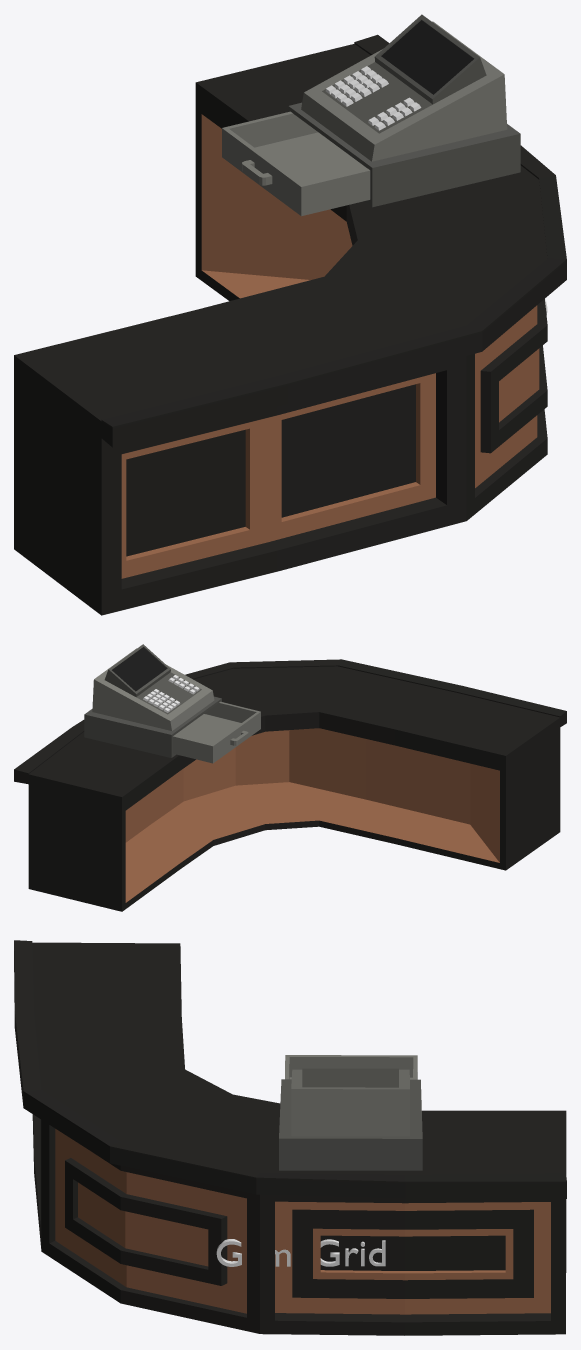
The model's file is Cashier.fbx.
3 renders of one model, top to bottom at view 1: azimuth 30°, elevation 25°; view 2: azimuth 150°, elevation 25°; view 3: azimuth 270°, elevation 25°, orthographic. The views are drawn at different scales.
Parts seen in each view (by area): view 1: Table, Cashier, CashierDrawer; view 2: Table, Cashier, CashierDrawer; view 3: Table, Cashier, CashierDrawer, Text.
Boxes of the visible parts, x1,y1,x2,y2 form: Table: (14, 34, 566, 615); Cashier: (288, 14, 520, 207); CashierDrawer: (222, 111, 370, 216); Table: (14, 659, 566, 911); Cashier: (84, 644, 221, 757); CashierDrawer: (173, 701, 260, 763); Table: (14, 940, 566, 1335); Cashier: (279, 1068, 422, 1170); CashierDrawer: (285, 1055, 417, 1079); Text: (216, 1239, 385, 1266).
Bounding box in the file's own units: 709 × 345 × 686.
